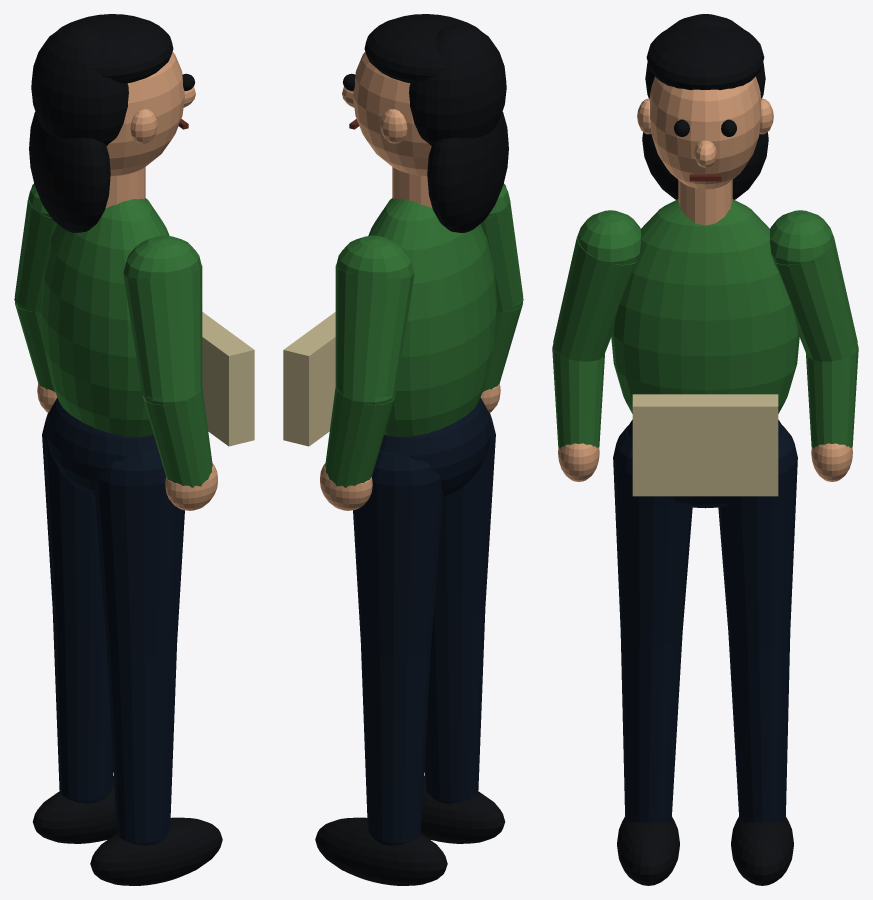
File: person_10.dae
The picture shows the model from 3 angles, left to right: view 1: azimuth 30°, elevation 25°; view 2: azimuth 150°, elevation 25°; view 3: azimuth 270°, elevation 25°; orthographic projection.
Visible parts, largest first — view 1: part0node, part2node, part1node, part3node, part5node; view 2: part0node, part2node, part1node, part3node, part5node; view 3: part2node, part0node, part1node, part5node, part3node.
Part boxes in pixels (x1,y1,x2,y2): part0node: (42,397,184,845); part2node: (14,183,212,487); part1node: (29,14,222,885); part3node: (37,52,217,510); part5node: (202,312,254,446); part0node: (353,397,495,845); part2node: (325,183,523,487); part1node: (315,14,508,885); part3node: (320,52,500,510); part5node: (283,312,335,446); part2node: (552,199,858,447); part0node: (613,419,797,822); part1node: (617,14,793,885); part5node: (632,394,778,496); part3node: (558,76,852,481).
Bounding box in the file's own units: 0.033 × 0.05 × 0.15.
